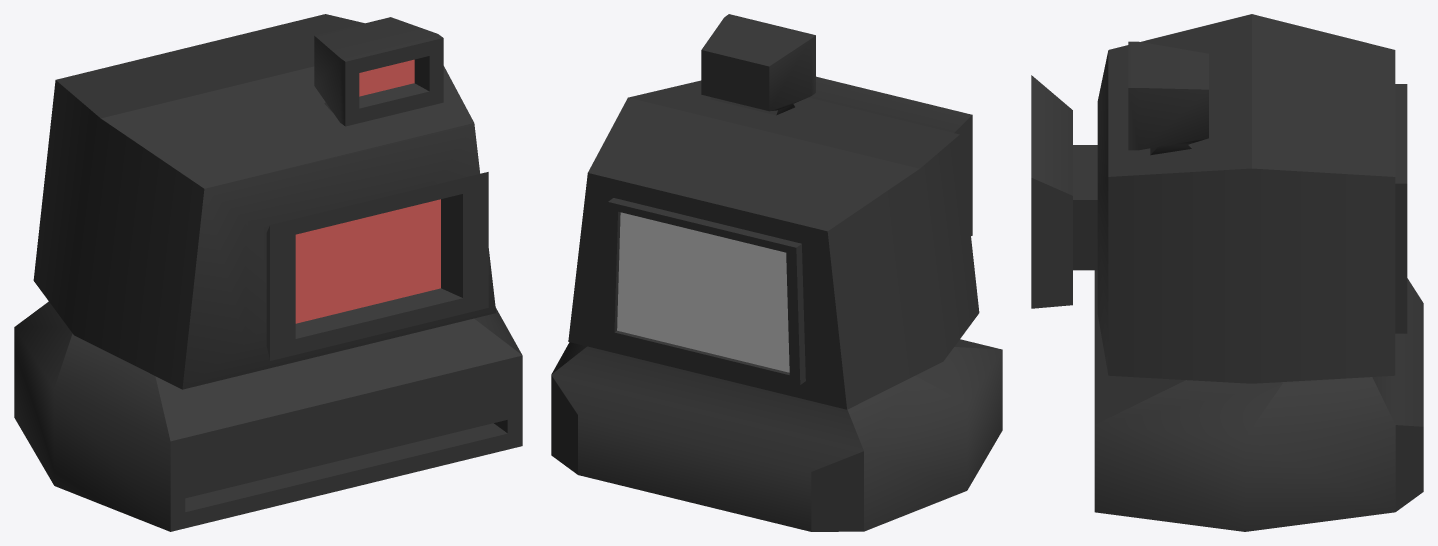
File: Polaroid Camera.fbx
3 renders of one model, left to right at view 1: azimuth 30°, elevation 25°; view 2: azimuth 150°, elevation 25°; view 3: azimuth 270°, elevation 25°, orthographic. The views are drawn at different scales.
Parts seen in each view (by area): view 1: Cube.005; view 2: Cube.005; view 3: Cube.005.
Part boxes in pixels (<box>): Cube.005: <box>14,14,522,531</box>; Cube.005: <box>551,14,1002,531</box>; Cube.005: <box>1031,14,1423,531</box>.
Bounding box in the file's own units: 95.5 × 87.78 × 78.56.
